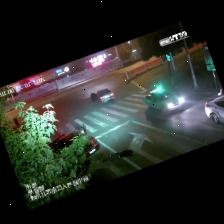person: (100, 150, 132, 162)
